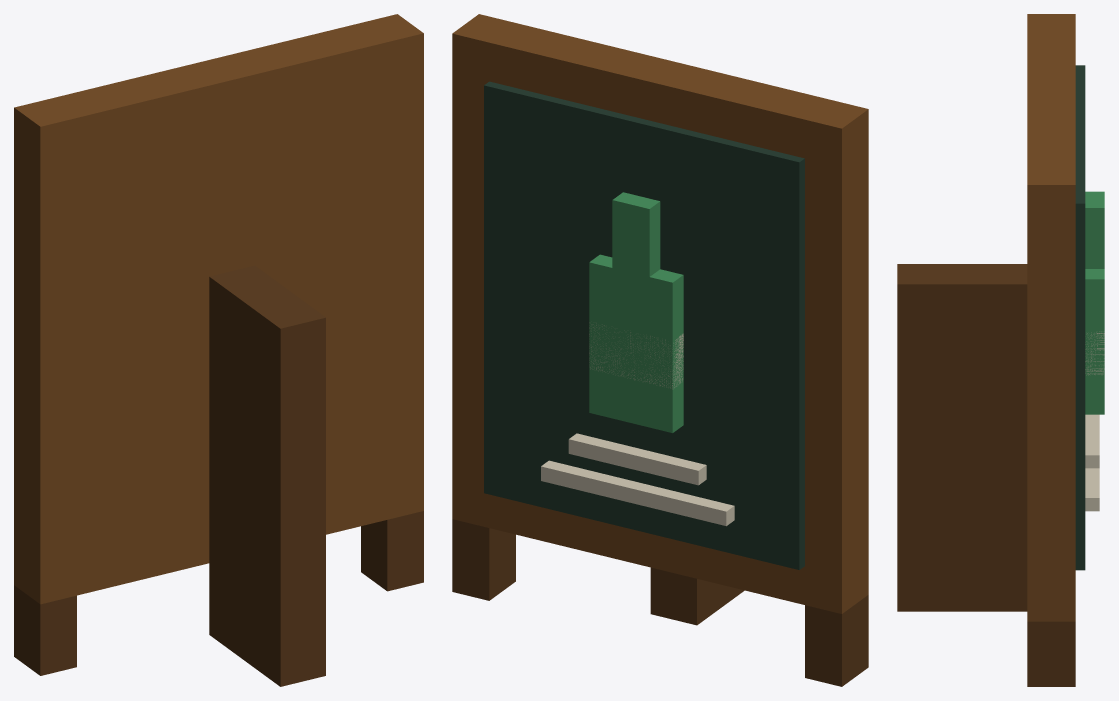
The model's file is cp-chalkboard-bottle.glb.
The picture shows the model from 3 angles, left to right: view 1: azimuth 30°, elevation 25°; view 2: azimuth 150°, elevation 25°; view 3: azimuth 270°, elevation 25°; orthographic projection. The views are drawn at different scales.
Parts seen in each view (by area): view 1: box-prop; view 2: box-prop; view 3: box-prop.
Boxes of the visible parts, left/top/right/bottom form: box-prop: left=14, top=14, right=423, bottom=686; box-prop: left=452, top=14, right=868, bottom=686; box-prop: left=897, top=14, right=1104, bottom=686.
Bounding box in the file's own units: 0.84 × 1.15 × 0.43.
